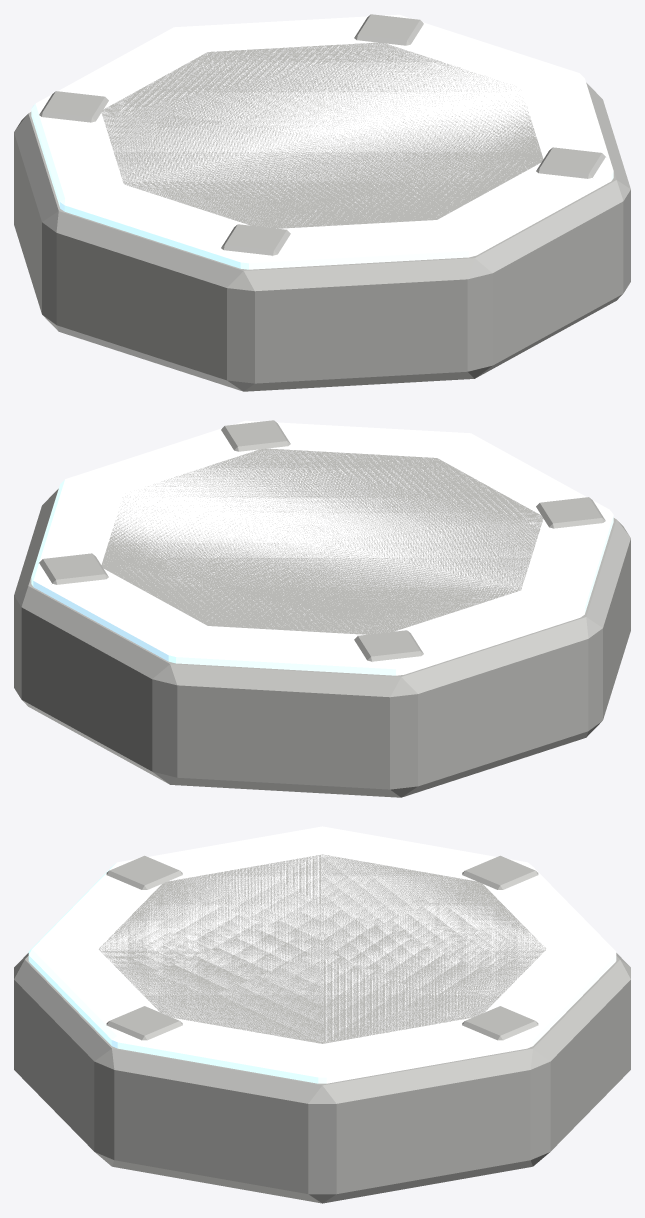
Rendered from pad.glb.
The picture shows the model from 3 angles, top to bottom: view 1: azimuth 30°, elevation 25°; view 2: azimuth 150°, elevation 25°; view 3: azimuth 270°, elevation 25°; orthographic projection. The views are drawn at different scales.
Visible parts, largest first — view 1: Rim, PadBody, PadPlate, Stud1, Stud3, Stud4, Stud2; view 2: Rim, PadBody, PadPlate, Stud4, Stud1, Stud2, Stud3; view 3: Rim, PadBody, PadPlate, Stud1, Stud4, Stud2, Stud3.
Part boxes in pixels (x1,y1,x2,y2): Rim: (31, 14, 613, 269); PadBody: (14, 82, 630, 391); PadPlate: (101, 42, 543, 228); Stud1: (354, 14, 423, 45); Stud3: (221, 224, 290, 255); Stud4: (536, 147, 605, 178); Stud2: (39, 91, 108, 122); Rim: (31, 420, 613, 675); PadBody: (14, 488, 630, 797); PadPlate: (101, 448, 543, 634); Stud4: (221, 420, 290, 451); Stud1: (39, 553, 108, 584); Stud2: (354, 630, 423, 661); Stud3: (536, 497, 605, 528); Rim: (28, 826, 616, 1083); PadBody: (14, 953, 630, 1203); PadPlate: (99, 854, 545, 1043); Stud1: (462, 1006, 538, 1040); Stud4: (106, 1006, 182, 1040); Stud2: (462, 855, 538, 889); Stud3: (106, 855, 182, 889).
Size of the model in its own units: 1.61 by 0.38 by 1.61.
